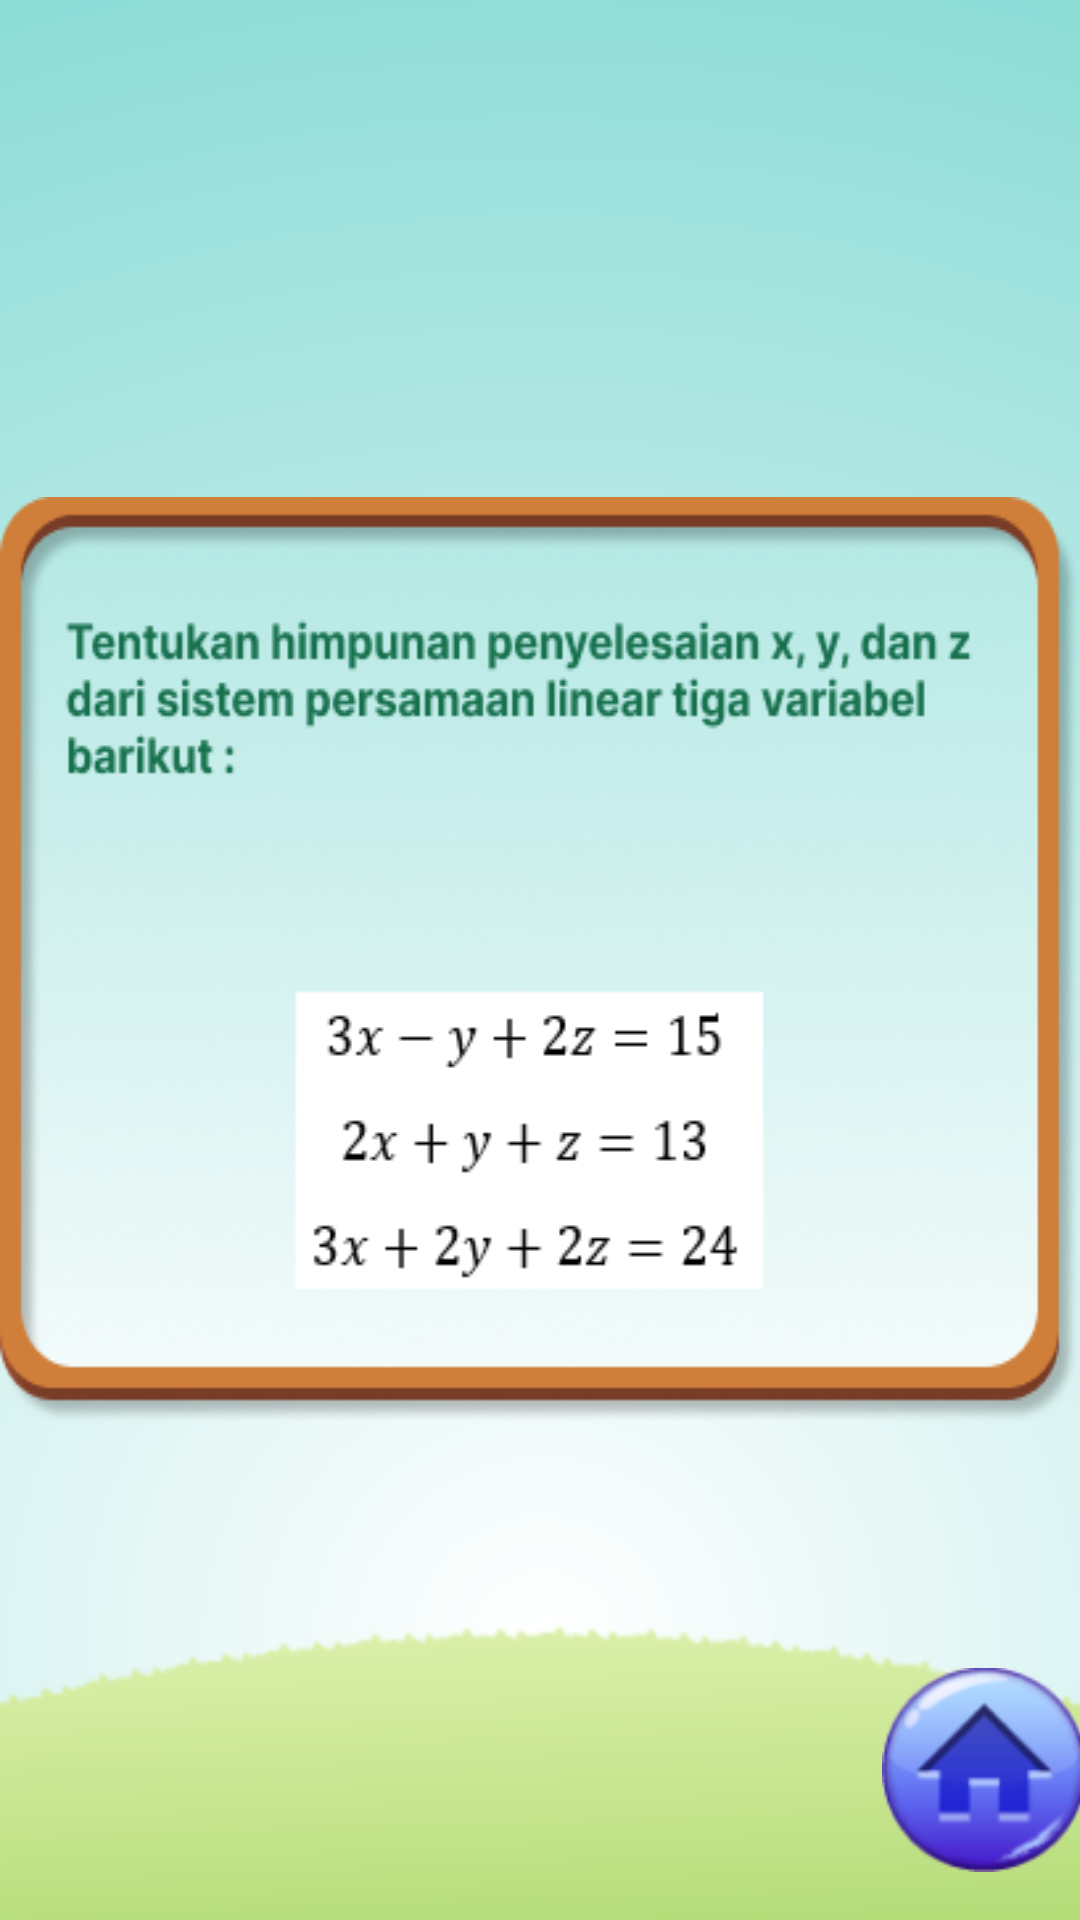

Point at icon controls on the screen. Image size 1080w x 1920h, points as (x=x, y=y).
Home: (x=981, y=1770)
